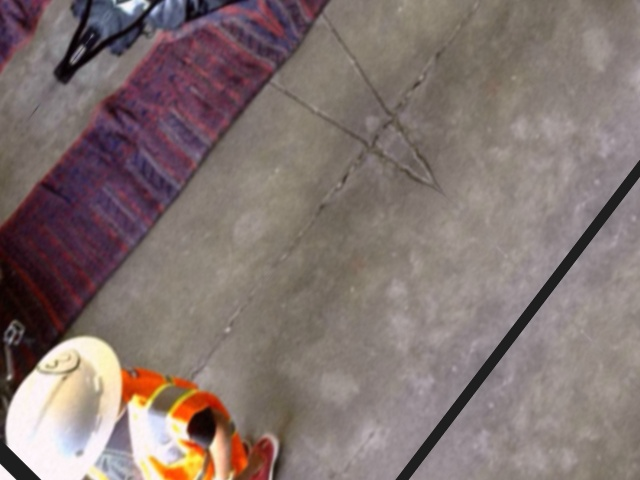three: (34, 333, 84, 389)
